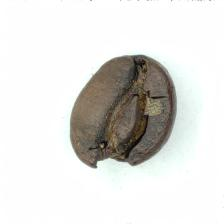NG: (81, 89, 163, 169)
